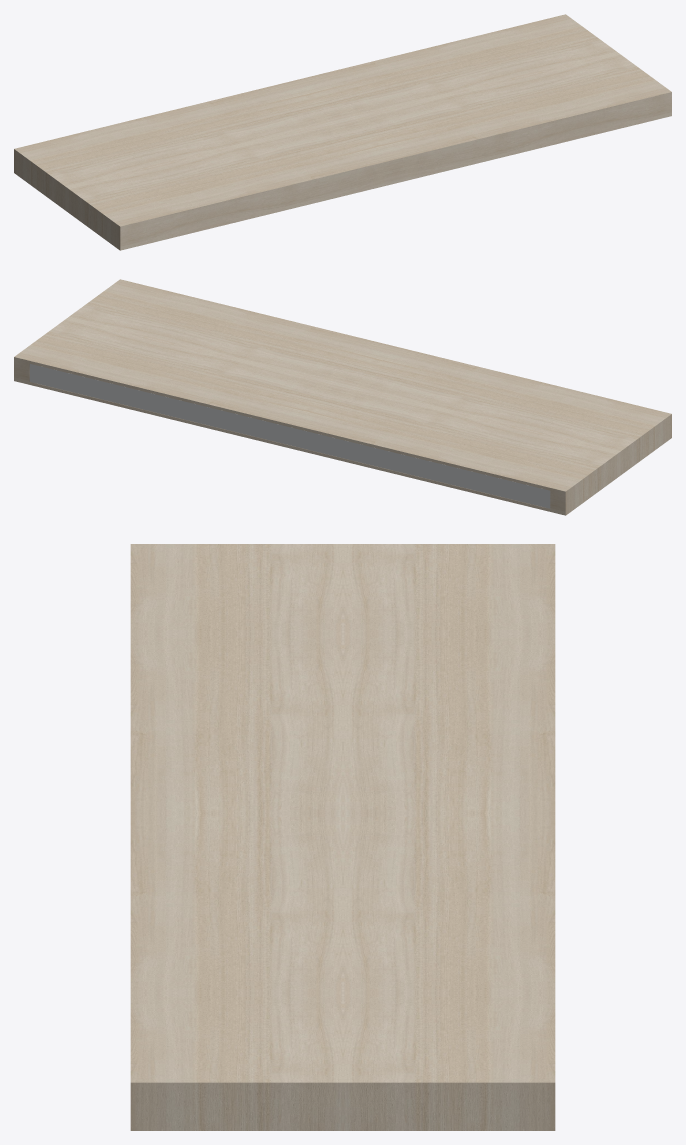
File: shelf-hovr.glb
3 renders of one model, top to bottom at view 1: azimuth 30°, elevation 25°; view 2: azimuth 150°, elevation 25°; view 3: azimuth 270°, elevation 25°, orthographic. The views are drawn at different scales.
Parts seen in each view (by area): view 1: shelf-hovr; view 2: shelf-hovr; view 3: shelf-hovr.
Part boxes in pixels (x1,y1,x2,y2): shelf-hovr: (14, 14, 671, 250); shelf-hovr: (14, 279, 671, 515); shelf-hovr: (130, 544, 555, 1130).
Size of the model in its own units: 0.9144 by 0.0381 by 0.3048.
2 materials, 1 textured.
